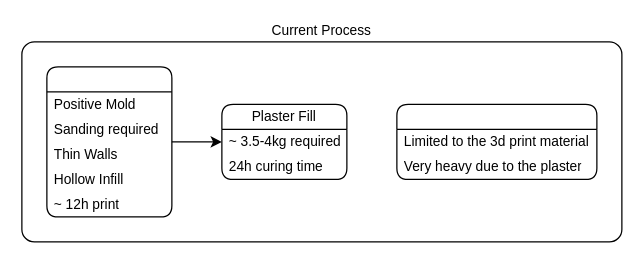
The diagram is 644 pixels wide and 264 high, and some of its shapes have lost their labels. Here are the shapes that lost their labels. From the top down, the box of each, then its label:
(46, 66, 172, 217): 3D Printed Buck
(396, 103, 597, 179): Limitations
